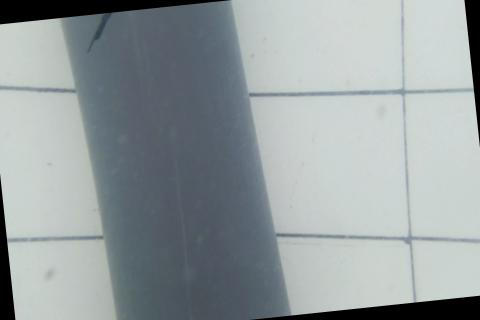keretakan: (83, 13, 117, 56)
